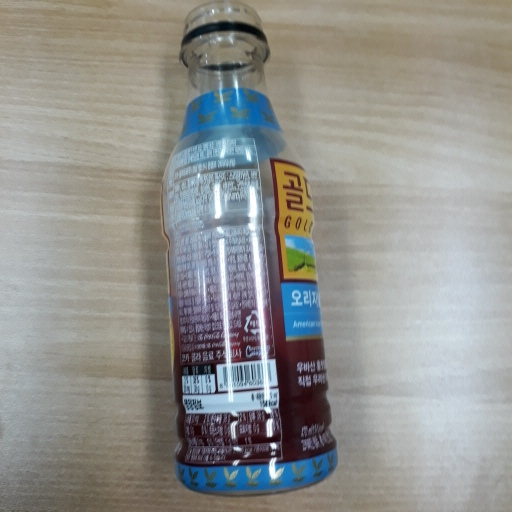Plastic_0: (162, 1, 341, 498)
